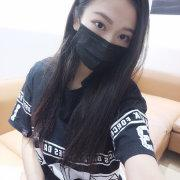OK: (80, 11, 138, 69)
